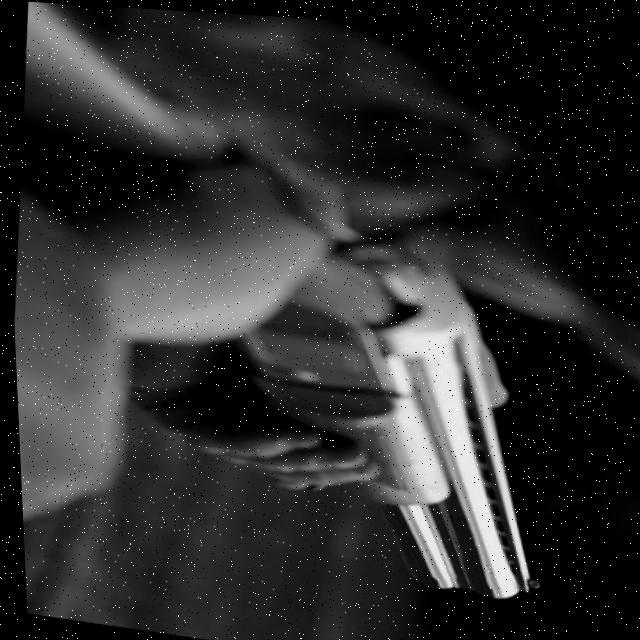firearm: (0, 0, 585, 600)
